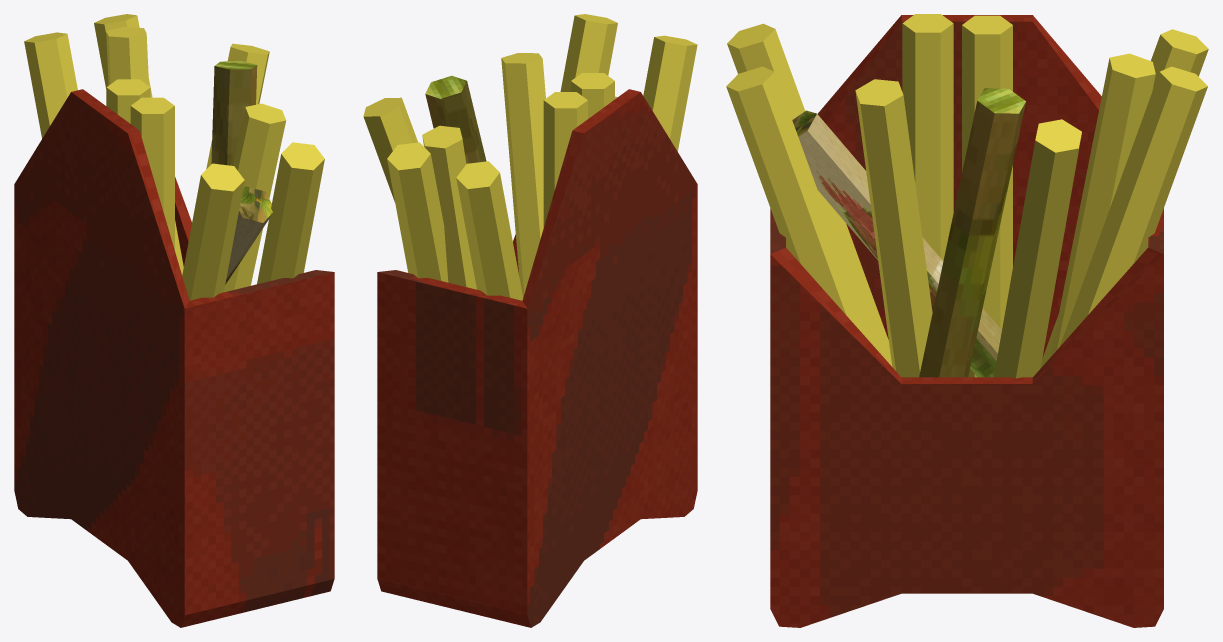
File: patatine.fbx
3 views of the same model, side by side, from view 1: azimuth 30°, elevation 25°; view 2: azimuth 150°, elevation 25°; view 3: azimuth 270°, elevation 25° (orthographic). The views are drawn at different scales.
Visible parts, largest first — view 1: Cylinder.050; view 2: Cylinder.050; view 3: Cylinder.050.
Part boxes in pixels (<box>): Cylinder.050: <box>14,14,334,627</box>; Cylinder.050: <box>363,14,697,627</box>; Cylinder.050: <box>726,14,1208,627</box>.
Bounding box in the file's own units: 0.0551 × 0.118 × 0.0955.
Materials: 3 (2 with a texture image).
